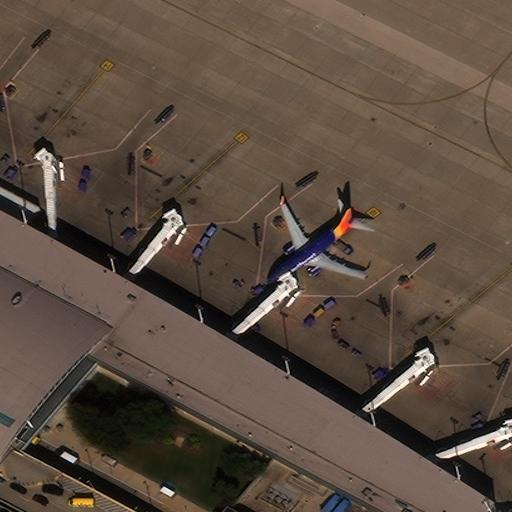Medium Civil Transport: (271, 200, 365, 278)
